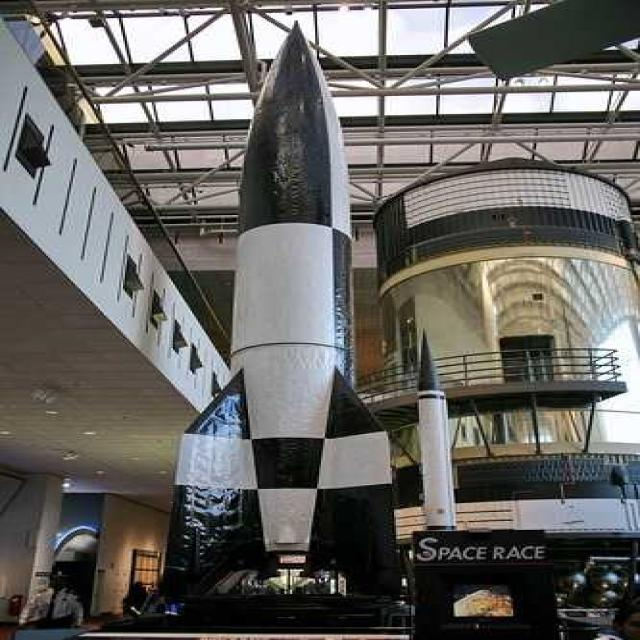missile: (171, 24, 401, 605)
